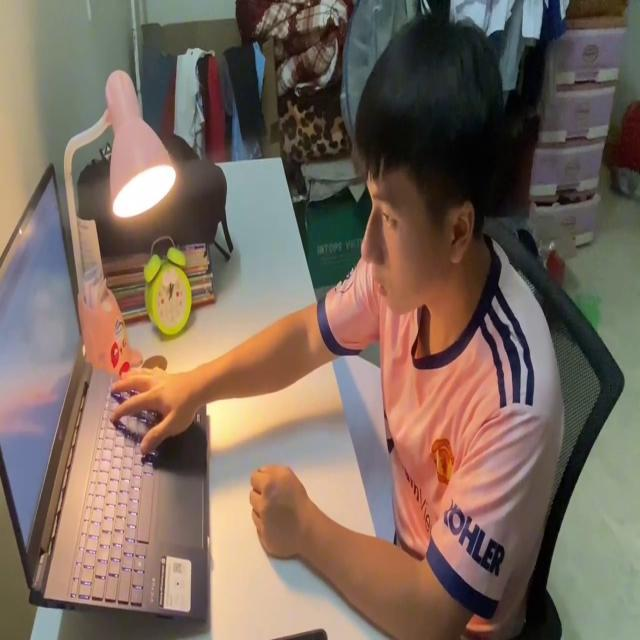book: (331, 347, 401, 559)
laptop: (0, 159, 213, 630)
phone: (276, 621, 331, 640)
student: (107, 9, 567, 640)
